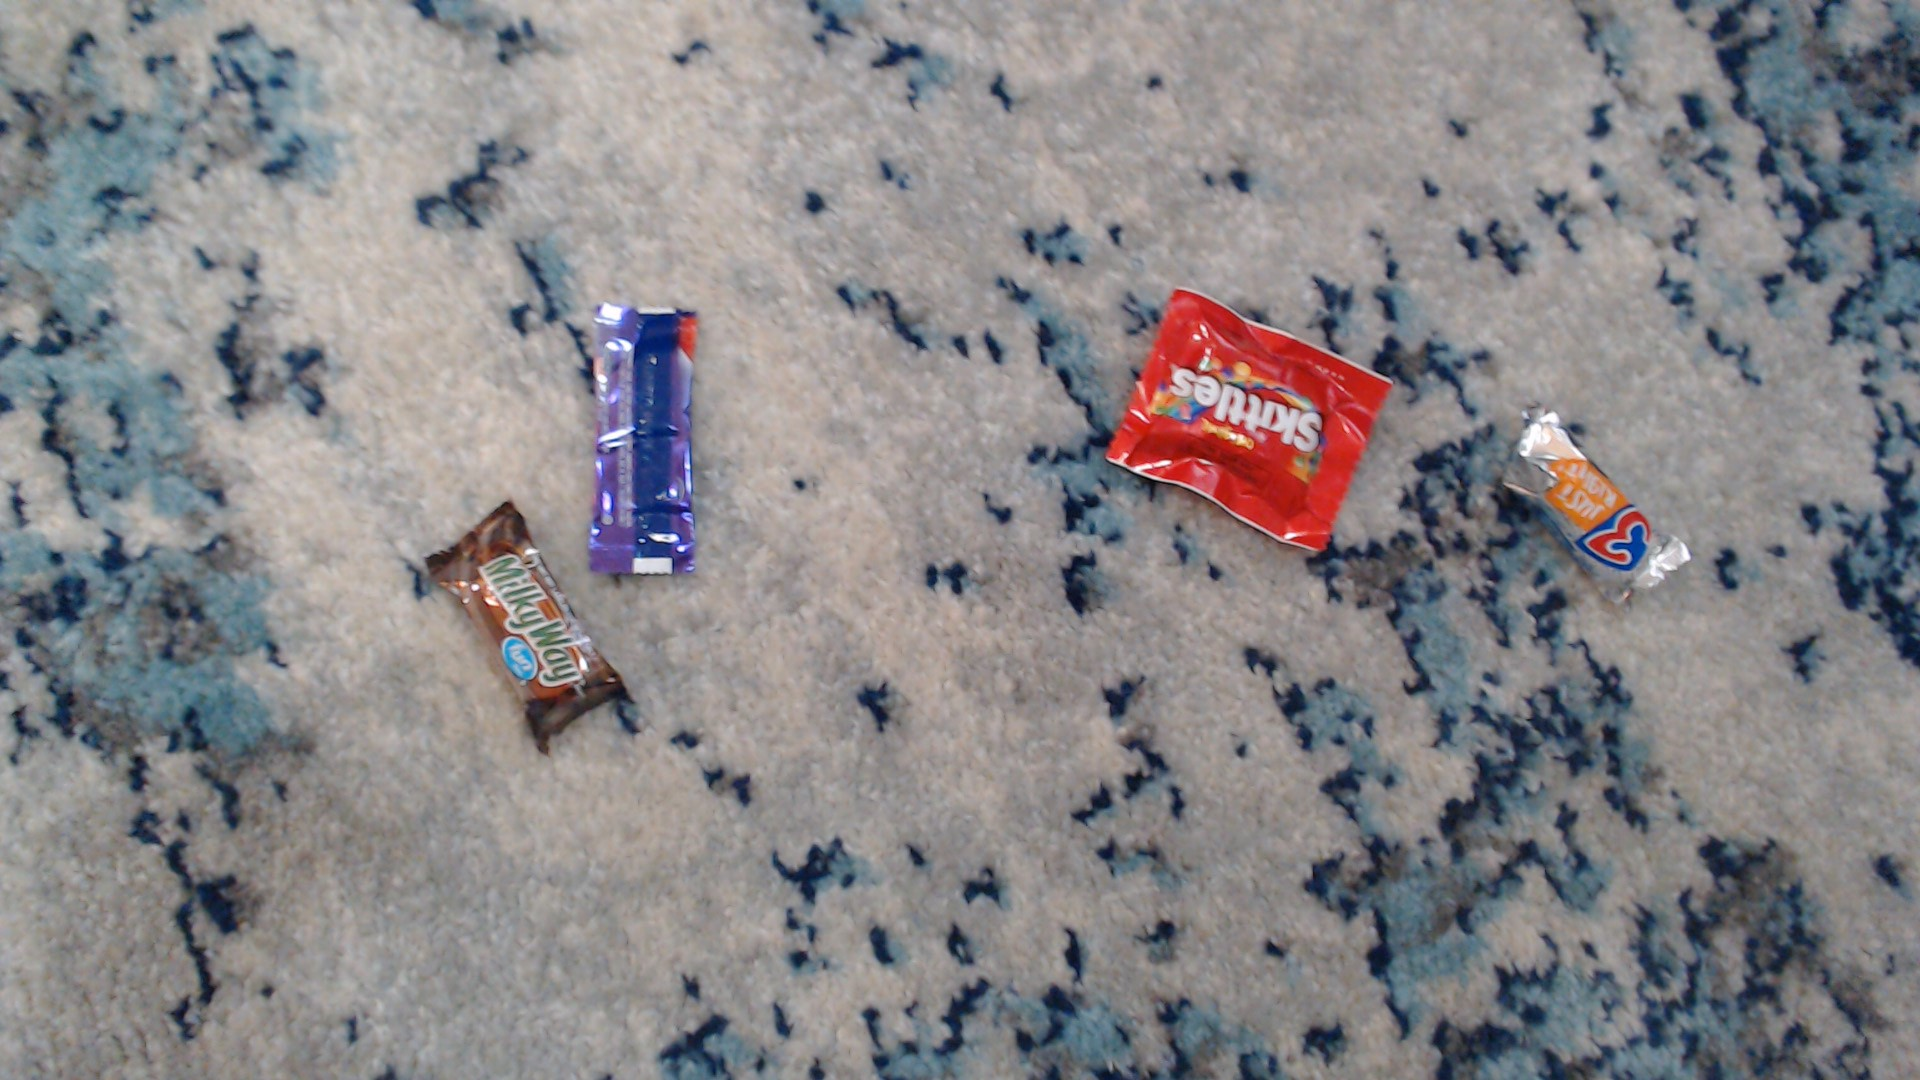airheads: (567, 280, 713, 601)
milky_way: (397, 501, 646, 724)
skittles: (1101, 262, 1395, 572)
three_musketeers: (1486, 381, 1708, 622)
